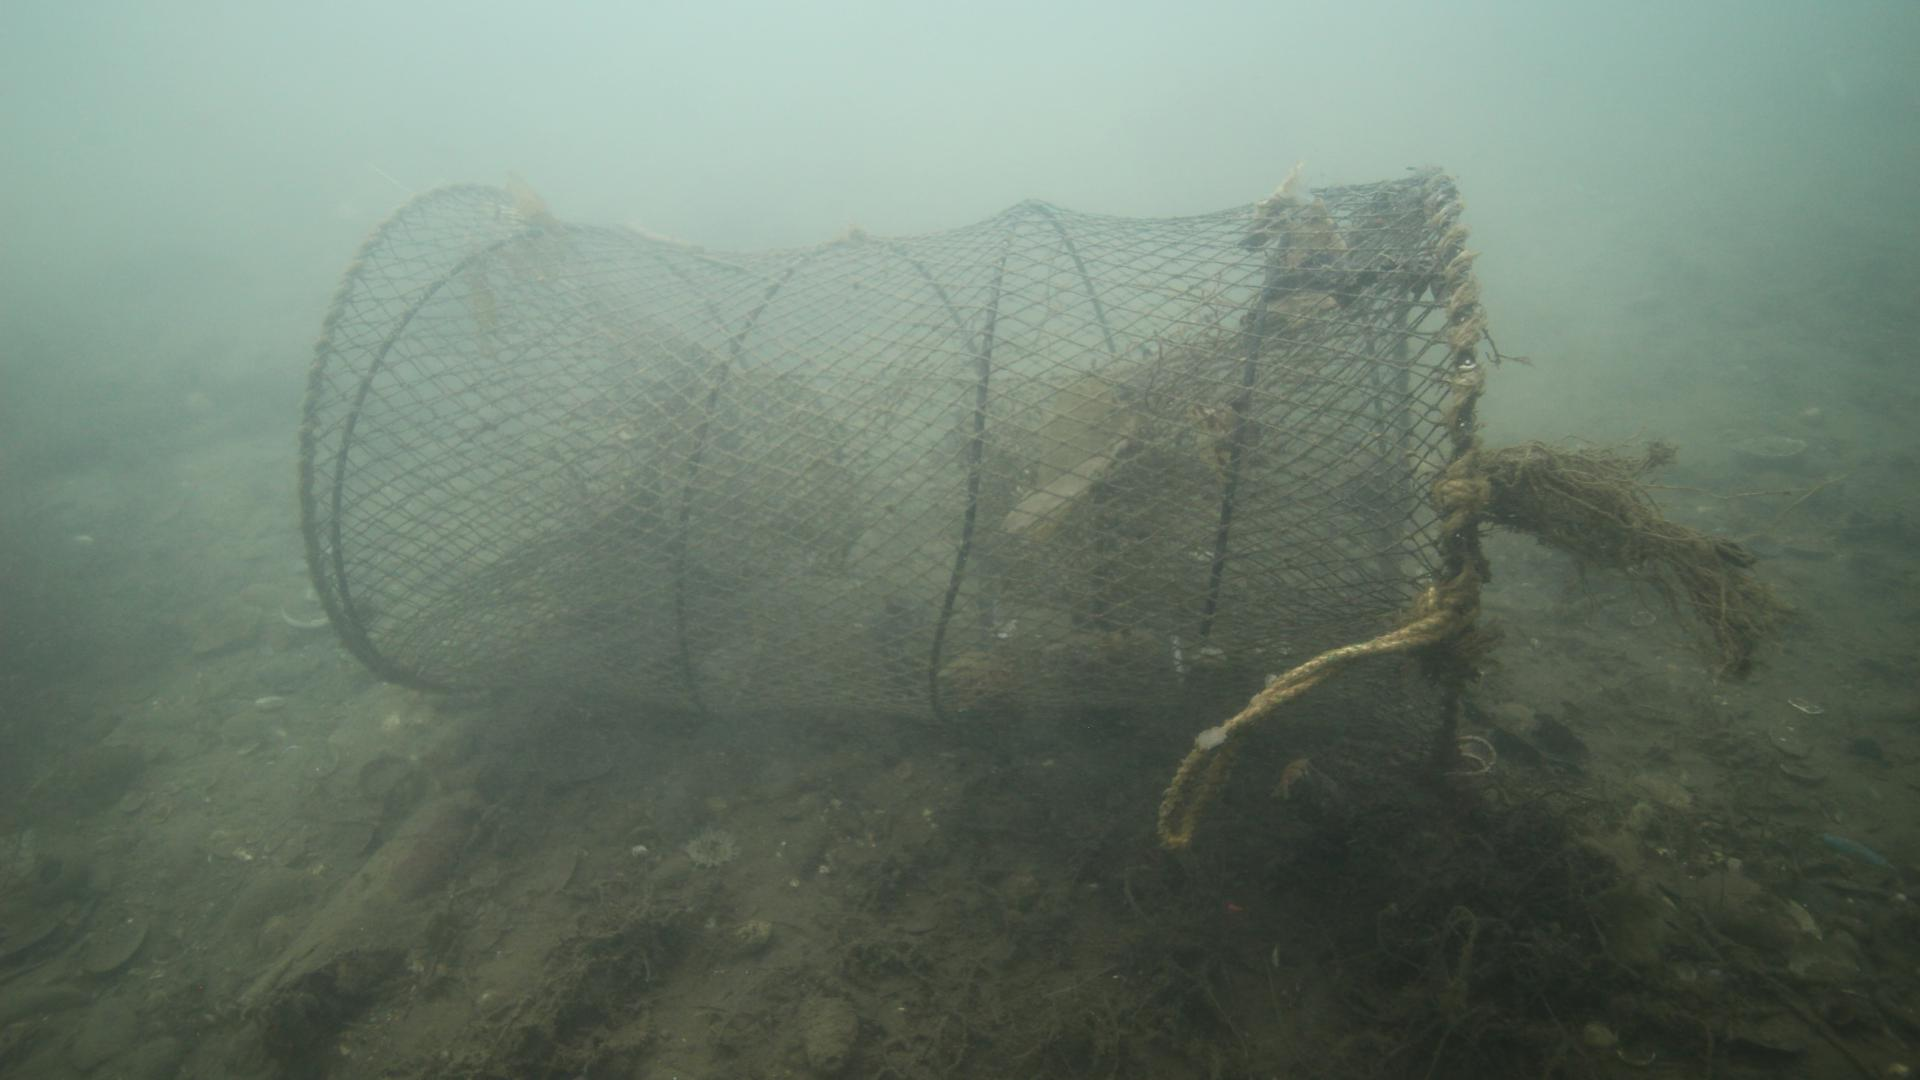bundle of ropes: (1150, 545, 1487, 851)
spring fish trap: (297, 167, 1480, 760)
